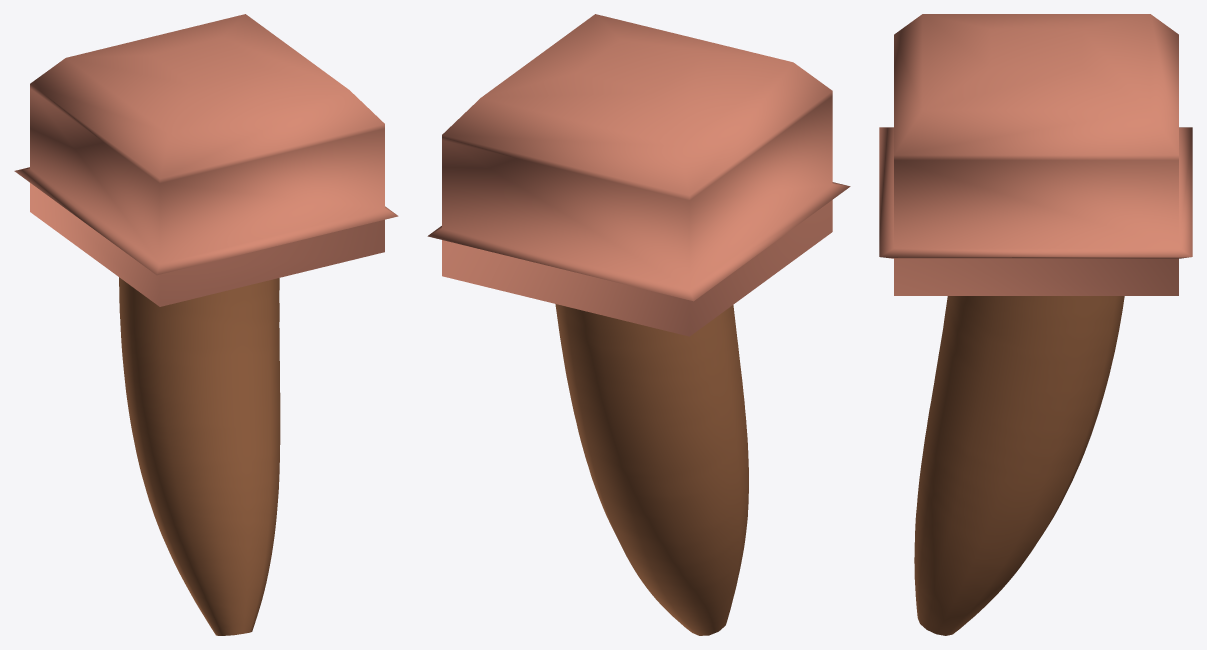
The model's file is minikinoko-draco.glb.
3 views of the same model, side by side, from view 1: azimuth 30°, elevation 25°; view 2: azimuth 150°, elevation 25°; view 3: azimuth 270°, elevation 25° (orthographic). The views are drawn at different scales.
Parts seen in each view (by area): view 1: Cube, NurbsPath; view 2: Cube, NurbsPath; view 3: Cube, NurbsPath.
Boxes of the visible parts, <box> form: Cube: <box>14,14,398,306</box>; NurbsPath: <box>119,277,280,635</box>; Cube: <box>427,14,850,336</box>; NurbsPath: <box>555,304,748,635</box>; Cube: <box>879,14,1192,295</box>; NurbsPath: <box>914,296,1124,635</box>.
Bounding box in the file's own units: 2.15 × 4.58 × 2.2.
